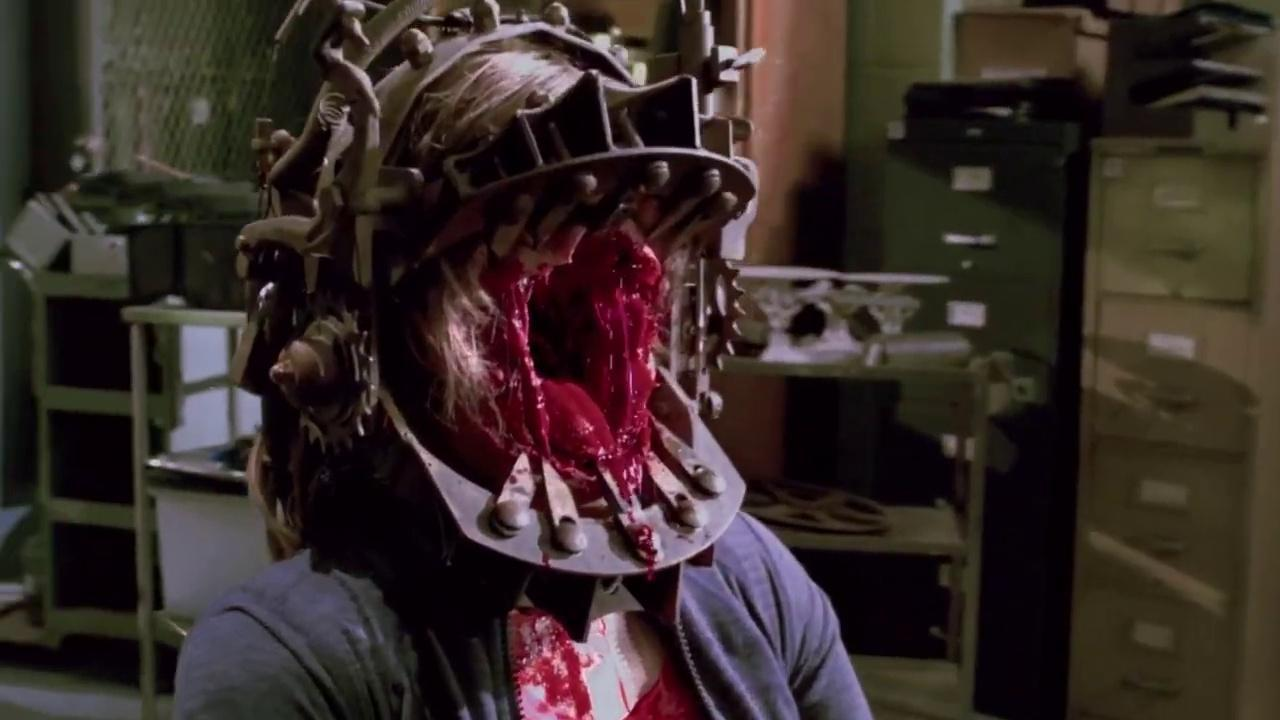Fire: (460, 219, 702, 570), (506, 603, 695, 720)
